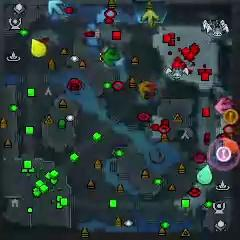Other: (217, 146, 231, 162)
p2: (197, 164, 212, 185)
p4: (30, 39, 47, 59)
p5: (221, 138, 239, 157)
x1: (215, 96, 232, 115)
x2: (143, 11, 159, 25)
x3: (47, 0, 63, 16)
x4: (102, 47, 119, 65)
x5: (137, 80, 155, 100)
